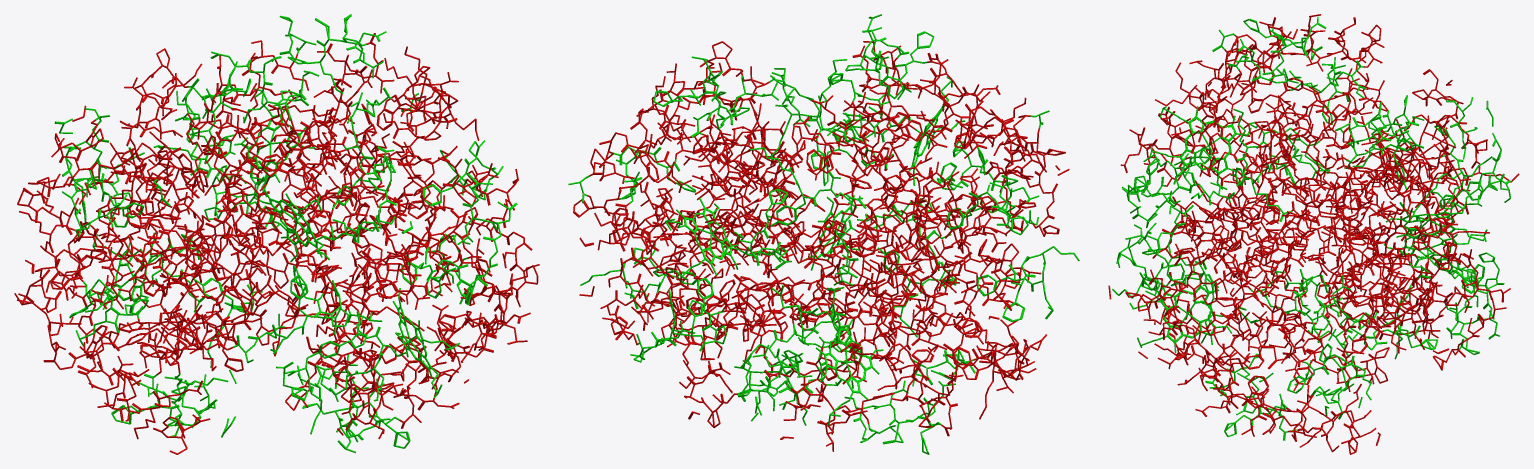
The model's file is 4hhb__lines__secondary-structure.glb.
3 renders of one model, left to right at view 1: azimuth 30°, elevation 25°; view 2: azimuth 150°, elevation 25°; view 3: azimuth 270°, elevation 25°, orthographic. The views are drawn at different scales.
Parts seen in each view (by area): view 1: Renderer Node; view 2: Renderer Node; view 3: Renderer Node.
Boxes of the visible parts, box(x1,y1,x2,y2) form: Renderer Node: box(14, 14, 539, 454); Renderer Node: box(568, 14, 1079, 454); Renderer Node: box(1108, 14, 1519, 454).
Size of the model in its own units: 65.55 by 57.14 by 57.46.
